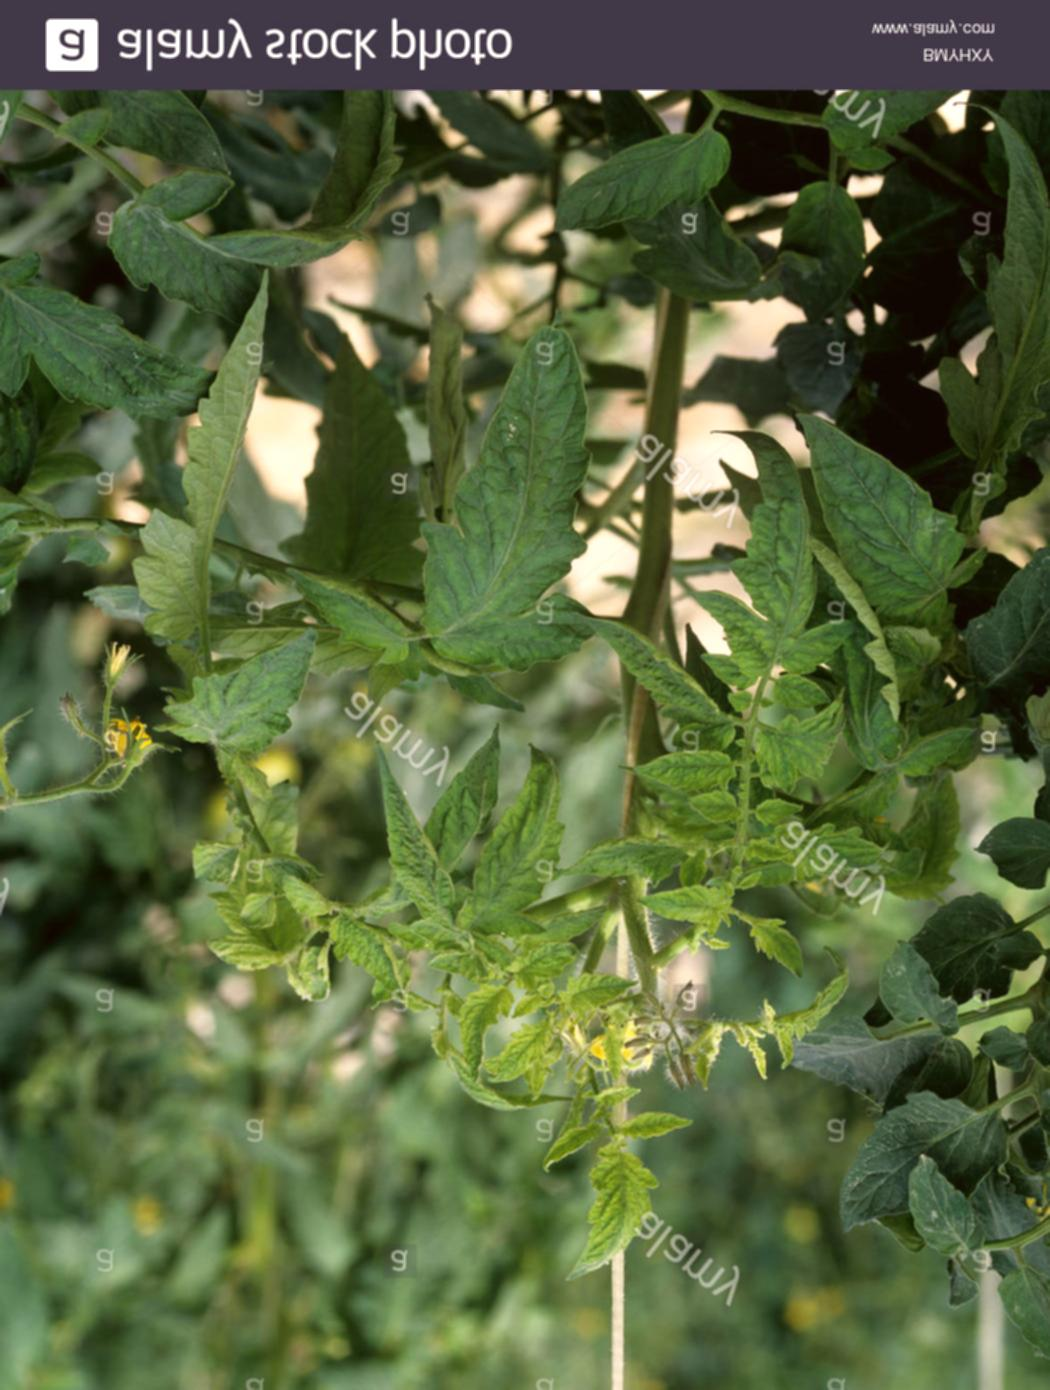Tomato leaf yellow virus: (613, 437, 815, 944), (98, 270, 335, 678), (421, 316, 598, 659), (381, 726, 469, 972)
